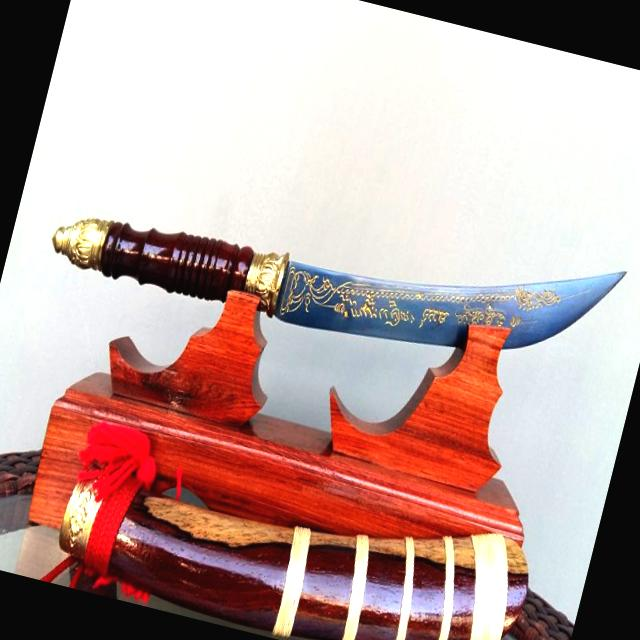long sword: (39, 124, 632, 417)
